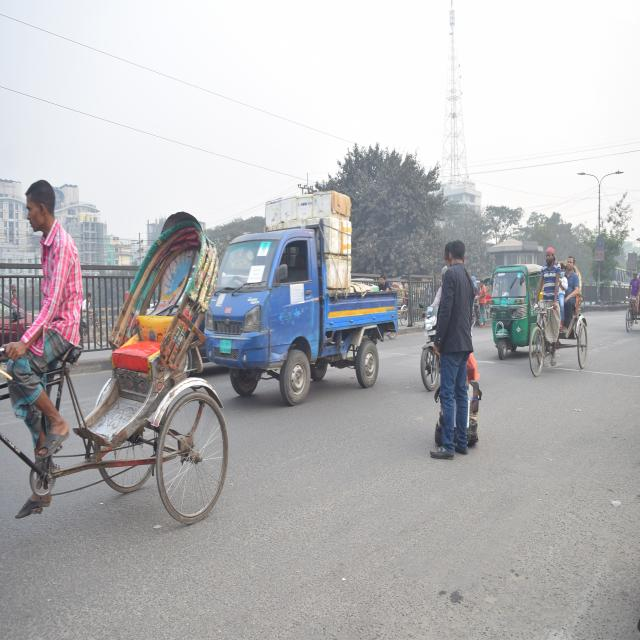motorbike: (416, 298, 445, 398)
pickup-van: (212, 183, 398, 386)
